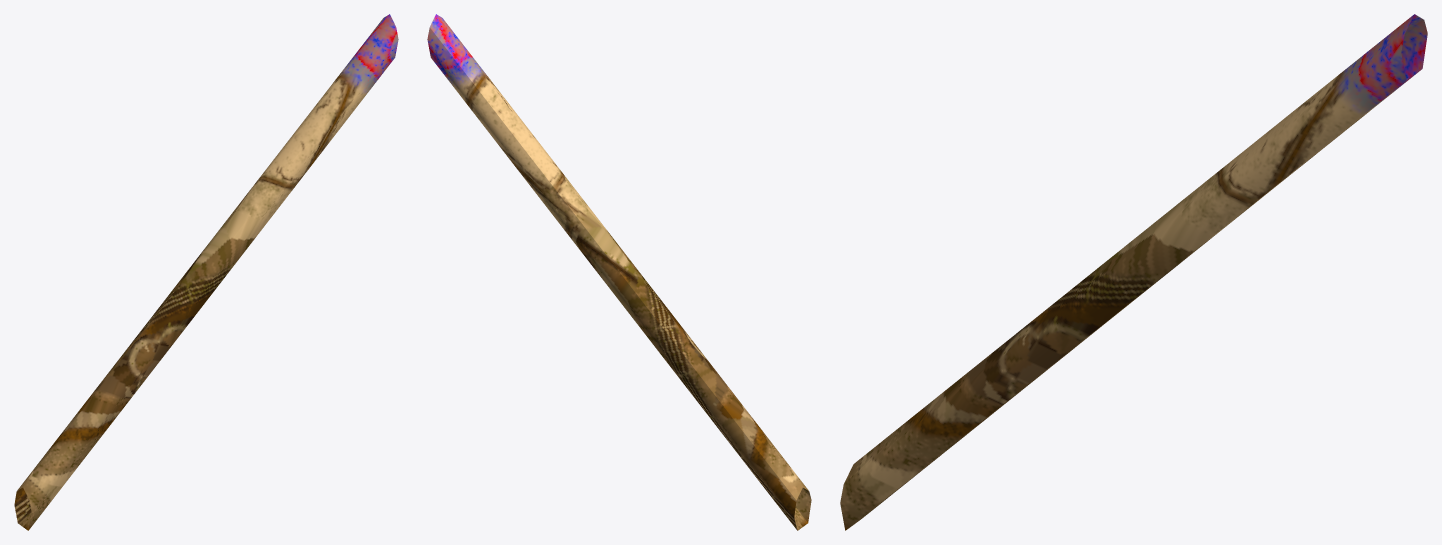
The model's file is SM_CornisaDiagonal.fbx.
3 views of the same model, side by side, from view 1: azimuth 30°, elevation 25°; view 2: azimuth 150°, elevation 25°; view 3: azimuth 330°, elevation 25° (orthographic). The views are drawn at different scales.
Parts seen in each view (by area): view 1: SM_CornisaDiagonal; view 2: SM_CornisaDiagonal; view 3: SM_CornisaDiagonal.
Part boxes in pixels (left/top/right/bottom): SM_CornisaDiagonal: left=14, top=14, right=398, bottom=530; SM_CornisaDiagonal: left=427, top=14, right=811, bottom=530; SM_CornisaDiagonal: left=840, top=14, right=1427, bottom=530.
Bounding box in the file's own units: 300 × 331 × 24.55.
